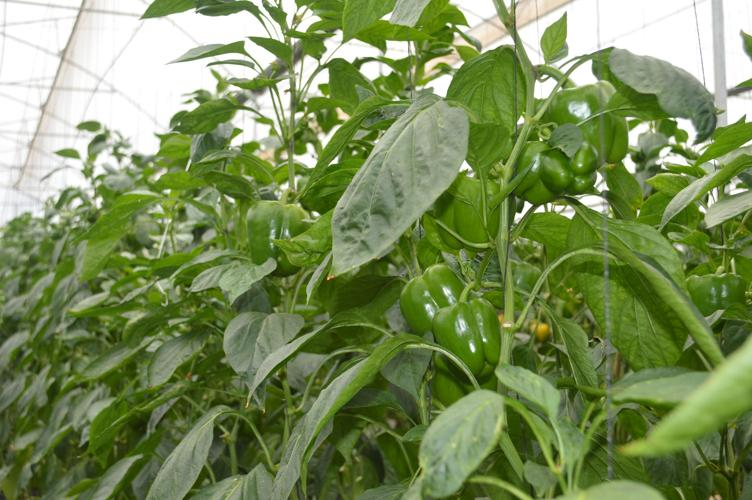BellPepper: (544, 82, 632, 175), (432, 290, 503, 388), (431, 171, 509, 251), (240, 198, 310, 280), (396, 259, 468, 326), (681, 267, 752, 327), (537, 131, 591, 201)
